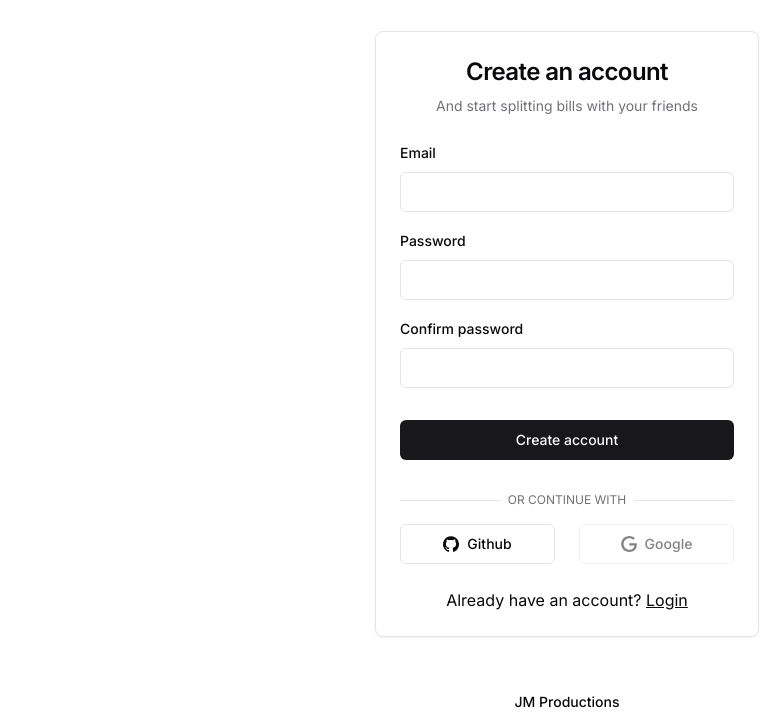
Test: Register form tests › Try registering with an invalid email
Step 1. Type "keke" into the field with test id "register-email" → (567, 192), box [400,172,734,212]
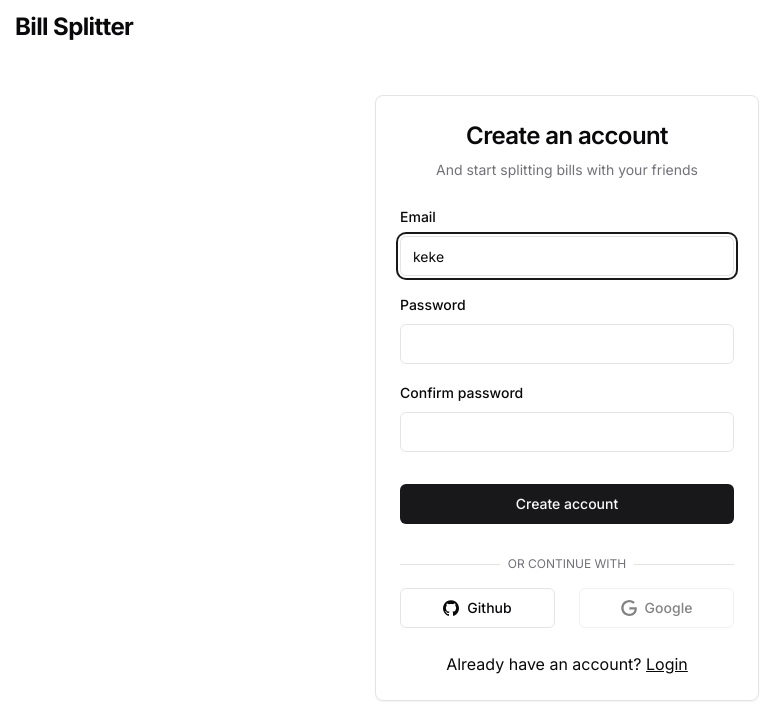
Step 2. Type "password123" into the password field with test id "register-password" → (567, 344), box [400,324,734,364]
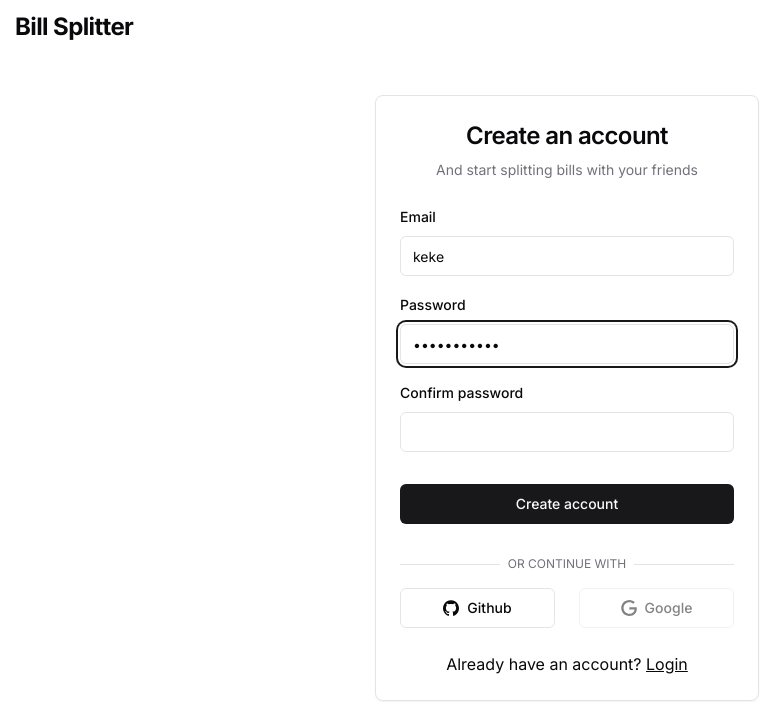
Step 3. Type "password123" into the password field with test id "register-confirm-password" → (567, 432), box [400,412,734,452]
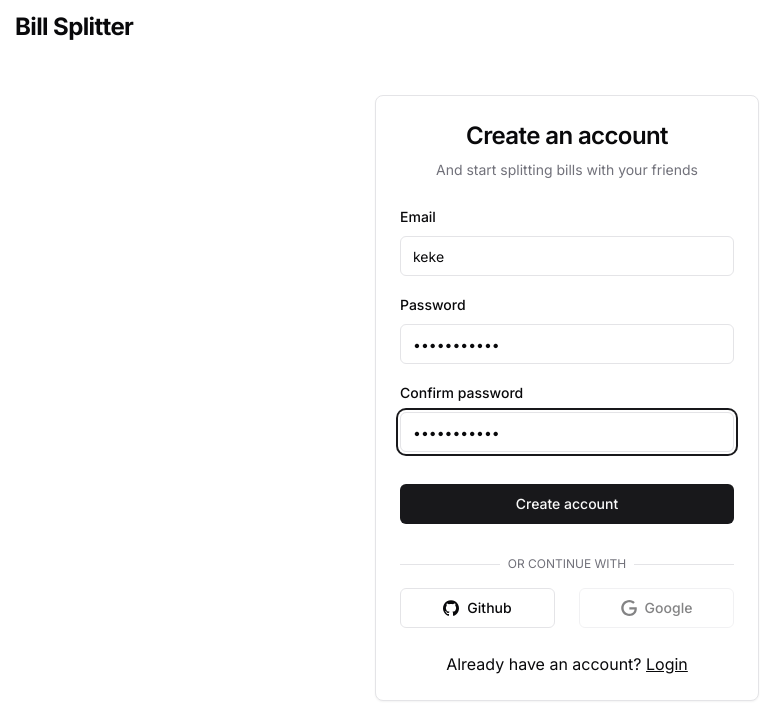
Step 4. Click the button with test id "register-submit" → (567, 504), box [400,484,734,524]
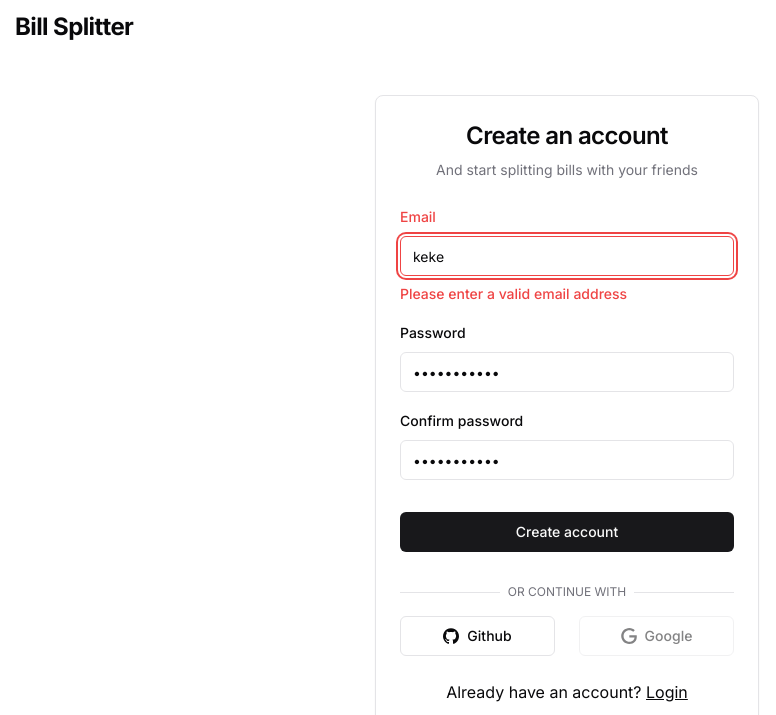
Result: the form with test id "register-form" shows "Please enter a valid email address" at [400,204,734,568]
